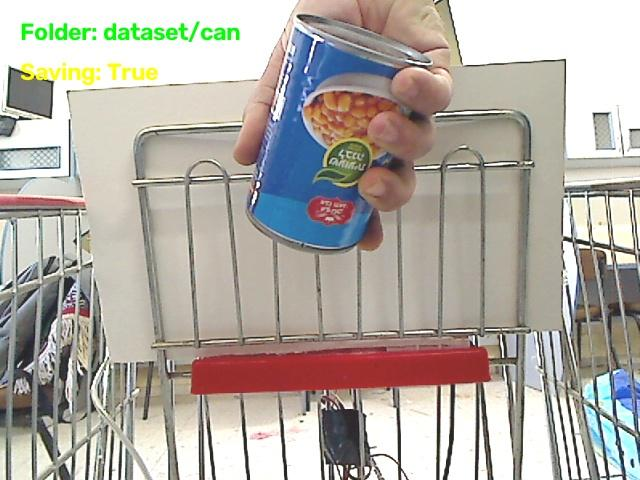can: (247, 15, 430, 252)
